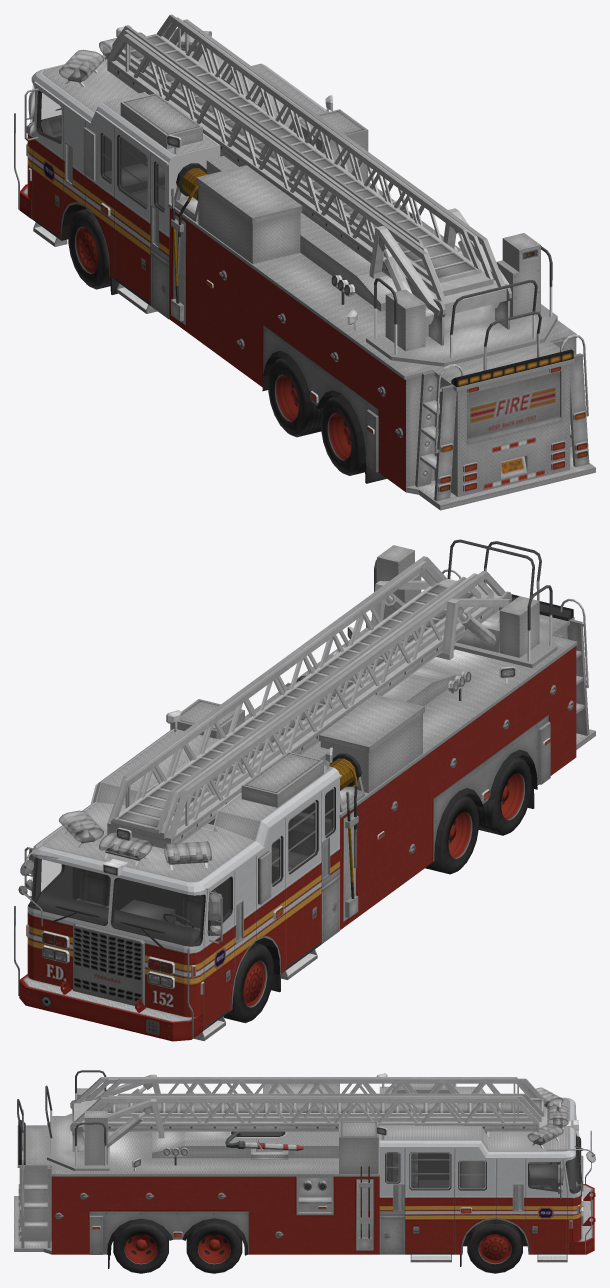
Rendered from 消防车.glb.
3 views of the same model, one above another, from view 1: azimuth 30°, elevation 25°; view 2: azimuth 150°, elevation 25°; view 3: azimuth 270°, elevation 25° (orthographic). The views are drawn at different scales.
Visible parts, largest first — view 1: FireTruck01_FireTruck01_0, FireTruck01_FireTruck01Glass_0, WheelBL006_FireTruck01_0, WheelFL006_FireTruck01_0, WheelBL_FireTruck01_0; view 2: FireTruck01_FireTruck01_0, FireTruck01_FireTruck01Glass_0, WheelBL_FireTruck01_0, WheelFL006_FireTruck01_0, WheelBL006_FireTruck01_0; view 3: FireTruck01_FireTruck01_0, FireTruck01_FireTruck01Glass_0, WheelFR005_FireTruck01_0, WheelBR006_FireTruck01_0, WheelBR_FireTruck01_0.
Boxes of the visible parts, <box> form: FireTruck01_FireTruck01_0: <box>14,14,595,510</box>; FireTruck01_FireTruck01Glass_0: <box>30,29,211,211</box>; WheelBL006_FireTruck01_0: <box>268,358,322,437</box>; WheelFL006_FireTruck01_0: <box>68,209,110,289</box>; WheelBL_FireTruck01_0: <box>321,397,364,475</box>; FireTruck01_FireTruck01_0: <box>14,539,595,1041</box>; FireTruck01_FireTruck01Glass_0: <box>30,788,334,944</box>; WheelBL_FireTruck01_0: <box>476,757,531,835</box>; WheelFL006_FireTruck01_0: <box>223,942,273,1023</box>; WheelBL006_FireTruck01_0: <box>425,795,478,874</box>; FireTruck01_FireTruck01_0: <box>14,1070,595,1268</box>; FireTruck01_FireTruck01Glass_0: <box>385,1087,579,1192</box>; WheelFR005_FireTruck01_0: <box>467,1219,522,1273</box>; WheelBR006_FireTruck01_0: <box>186,1222,242,1273</box>; WheelBR_FireTruck01_0: <box>113,1223,168,1273</box>.
Size of the model in its own units: 3.12 by 3.47 by 11.47.
2 materials, 2 textured.
